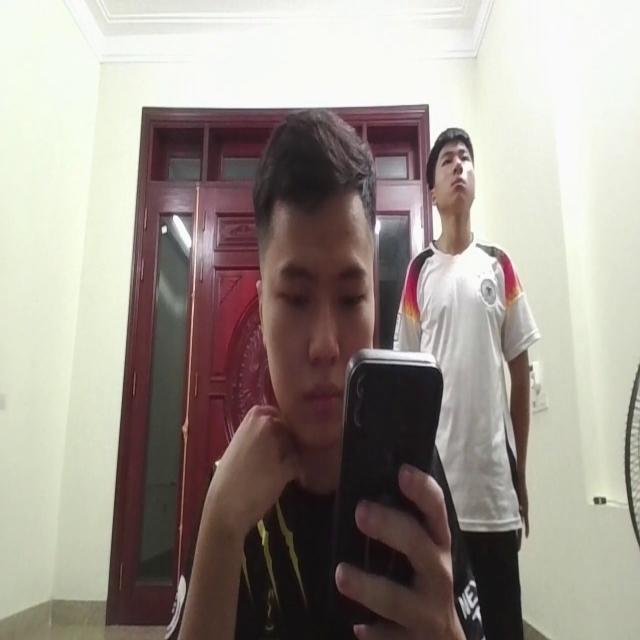extra_person: (387, 111, 536, 572)
phone: (324, 345, 440, 617)
student: (164, 110, 446, 640)
